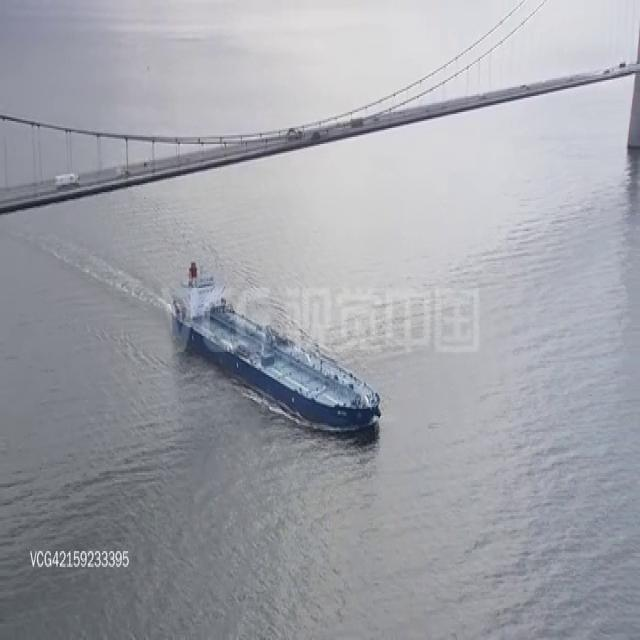cargoship: (176, 261, 372, 447)
